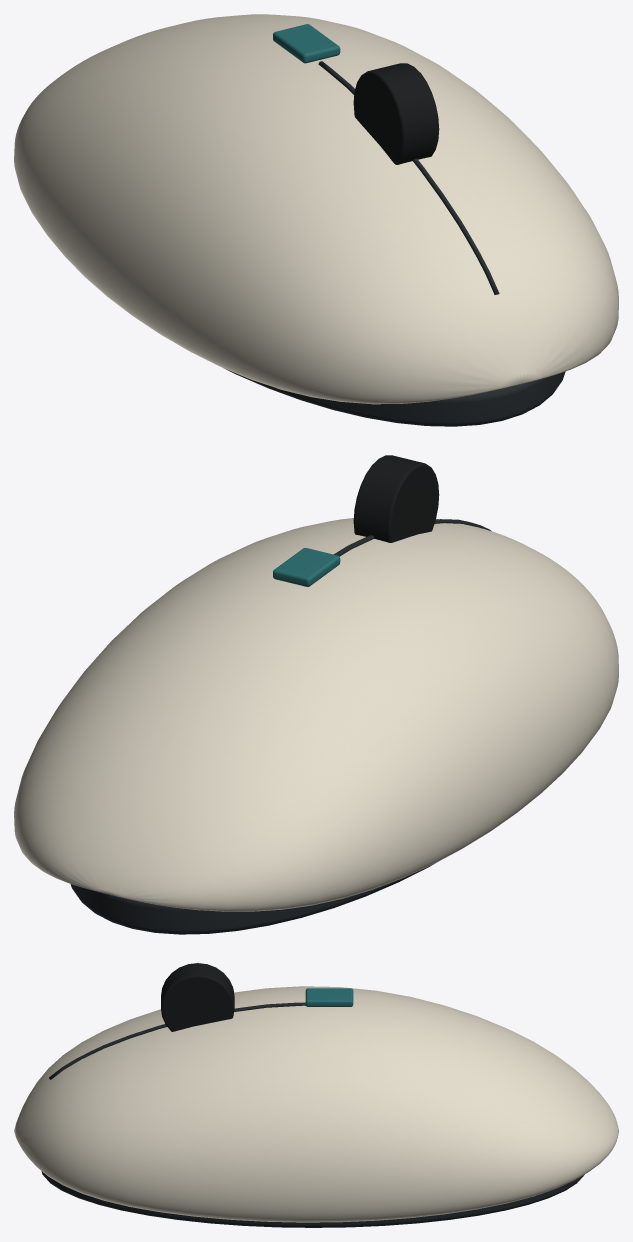
Rendered from mouse_01.glb.
3 renders of one model, top to bottom at view 1: azimuth 30°, elevation 25°; view 2: azimuth 150°, elevation 25°; view 3: azimuth 270°, elevation 25°, orthographic. The views are drawn at different scales.
Parts seen in each view (by area): view 1: mouse_01; view 2: mouse_01; view 3: mouse_01.
Boxes of the visible parts, x1,y1,x2,y2 form: mouse_01: [14, 14, 618, 426]; mouse_01: [14, 455, 618, 934]; mouse_01: [14, 963, 618, 1227].
Size of the model in its own units: 0.064 by 0.043 by 0.1148.
4 materials, 4 textured.
